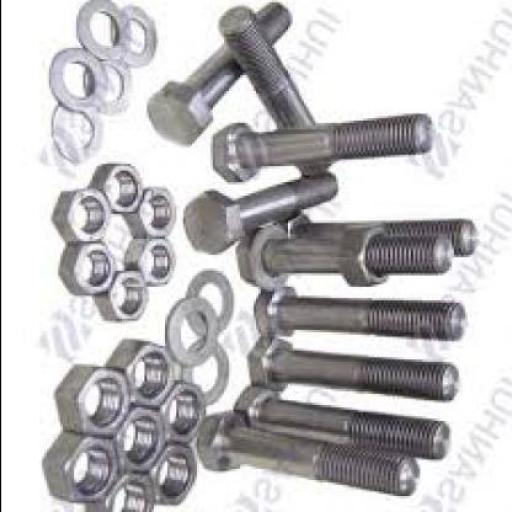metal: (148, 8, 294, 150), (221, 9, 341, 178), (200, 416, 419, 498), (236, 389, 450, 464), (239, 227, 458, 294), (214, 125, 435, 184), (182, 174, 339, 254), (251, 344, 462, 402), (255, 287, 469, 343), (278, 212, 478, 257), (56, 368, 132, 439), (43, 437, 121, 503), (114, 341, 175, 412), (52, 50, 109, 116), (116, 406, 166, 476), (168, 300, 218, 367), (339, 228, 391, 292), (78, 2, 132, 62), (186, 275, 234, 337), (53, 104, 102, 164), (62, 244, 116, 298), (182, 343, 228, 405), (112, 10, 160, 68), (94, 274, 150, 322), (126, 191, 180, 239), (55, 193, 109, 241), (162, 385, 207, 441), (91, 59, 134, 116), (96, 167, 145, 216), (91, 475, 156, 511), (159, 446, 198, 505), (128, 244, 177, 286)
